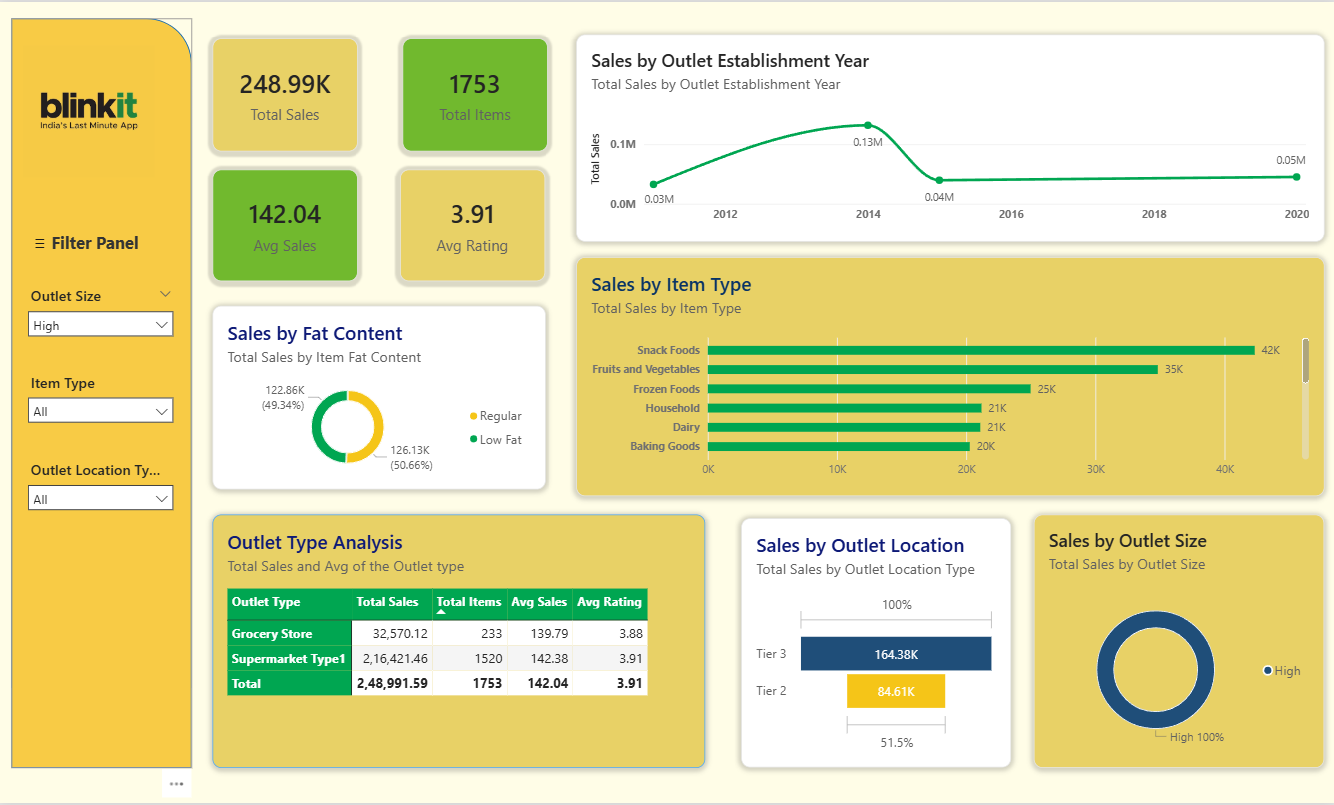

The dashboard page shown, as its layout file describes it:
{"tool":"powerbi","page":{"name":"Page 1","canvas":[1500,900],"ordinal":0},"visuals":[{"type":"card","fields":{"Values":["Key Measures.Total Sales"]},"box":[239,41.2,163.2,126.9],"z":0},{"type":"card","fields":{"Values":["Key Measures.Avg Sales"]},"box":[239,187.9,163.2,125.3],"z":1000},{"type":"card","fields":{"Values":["Key Measures.Avg Rating"]},"box":[450,187.9,163.2,125.3],"z":2000},{"type":"card","fields":{"Values":["Key Measures.Total Items"]},"box":[451.6,41.2,163.2,126.9],"z":3000},{"type":"donutChart","title":" Sales by Fat Content","fields":{"Category":["BlinkIT-Grocery-Data.Item Fat Content"],"Y":["Key Measures.Total Sales"]},"box":[239,341.2,374.2,206],"z":4000},{"type":"clusteredBarChart","title":"Sales by Item Type","fields":{"Category":["BlinkIT-Grocery-Data.Item Type"],"Y":["Key Measures.Total Sales"]},"box":[647.8,286.8,840.7,268.7],"z":5000},{"type":"donutChart","title":"Sales by Outlet Size","fields":{"Category":["BlinkIT-Grocery-Data.Outlet Size"],"Y":["Key Measures.Total Sales"]},"box":[1162.1,575.3,326.4,285.2],"z":6000},{"type":"lineChart","title":"Sales by Outlet Establishment Year","fields":{"Category":["BlinkIT-Grocery-Data.Outlet Establishment Year"],"Y":["Key Measures.Total Sales"]},"box":[647.8,36.3,840.7,232.4],"z":7000},{"type":"pivotTable","title":"Outlet Type Analysis","fields":{"Rows":["BlinkIT-Grocery-Data.Outlet Type"],"Values":["Key Measures.Total Sales","Key Measures.Total Items","Key Measures.Avg Sales","Key Measures.Avg Rating"]},"box":[239,575.3,553.8,285.2],"z":8000},{"type":"funnel","title":" Sales by Outlet Location","fields":{"Category":["BlinkIT-Grocery-Data.Outlet Location Type"],"Y":["Key Measures.Total Sales"]},"box":[832.4,580.2,303.3,280.2],"z":12000},{"type":"shape","box":[13.2,18.1,202.7,842.3],"z":12750},{"type":"slicer","fields":{"Values":["BlinkIT-Grocery-Data.Outlet Location Type"]},"box":[26.4,514.3,173.1,65.9],"z":12812},{"type":"slicer","fields":{"Values":["BlinkIT-Grocery-Data.Outlet Size"]},"box":[26.4,318.1,173.1,64.3],"z":12875},{"type":"slicer","fields":{"Values":["BlinkIT-Grocery-Data.Item Type"]},"box":[26.4,415.4,173.1,67.6],"z":13000},{"type":"textbox","box":[25.9,251.2,160.1,35.7],"z":15500},{"type":"image","box":[25.6,42,148.6,161.9],"z":16501}]}

Visuals, with their boxes in screenshot pixels (x1, y1, x2, y2), scaled from the page's 1500x900 canvas onto the 1334x805 screenshot:
card - Key Measures.Total Sales: {"left": 213, "top": 37, "right": 358, "bottom": 150}
card - Key Measures.Avg Sales: {"left": 213, "top": 168, "right": 358, "bottom": 280}
card - Key Measures.Avg Rating: {"left": 400, "top": 168, "right": 545, "bottom": 280}
card - Key Measures.Total Items: {"left": 402, "top": 37, "right": 547, "bottom": 150}
" Sales by Fat Content" donutChart: {"left": 213, "top": 305, "right": 545, "bottom": 489}
"Sales by Item Type" clusteredBarChart: {"left": 576, "top": 257, "right": 1324, "bottom": 497}
"Sales by Outlet Size" donutChart: {"left": 1033, "top": 515, "right": 1324, "bottom": 770}
"Sales by Outlet Establishment Year" lineChart: {"left": 576, "top": 32, "right": 1324, "bottom": 240}
"Outlet Type Analysis" pivotTable: {"left": 213, "top": 515, "right": 705, "bottom": 770}
" Sales by Outlet Location" funnel: {"left": 740, "top": 519, "right": 1010, "bottom": 770}
shape: {"left": 12, "top": 16, "right": 192, "bottom": 770}
slicer - BlinkIT-Grocery-Data.Outlet Location Type: {"left": 23, "top": 460, "right": 177, "bottom": 519}
slicer - BlinkIT-Grocery-Data.Outlet Size: {"left": 23, "top": 285, "right": 177, "bottom": 342}
slicer - BlinkIT-Grocery-Data.Item Type: {"left": 23, "top": 372, "right": 177, "bottom": 432}
textbox: {"left": 23, "top": 225, "right": 165, "bottom": 257}
image: {"left": 23, "top": 38, "right": 155, "bottom": 182}
